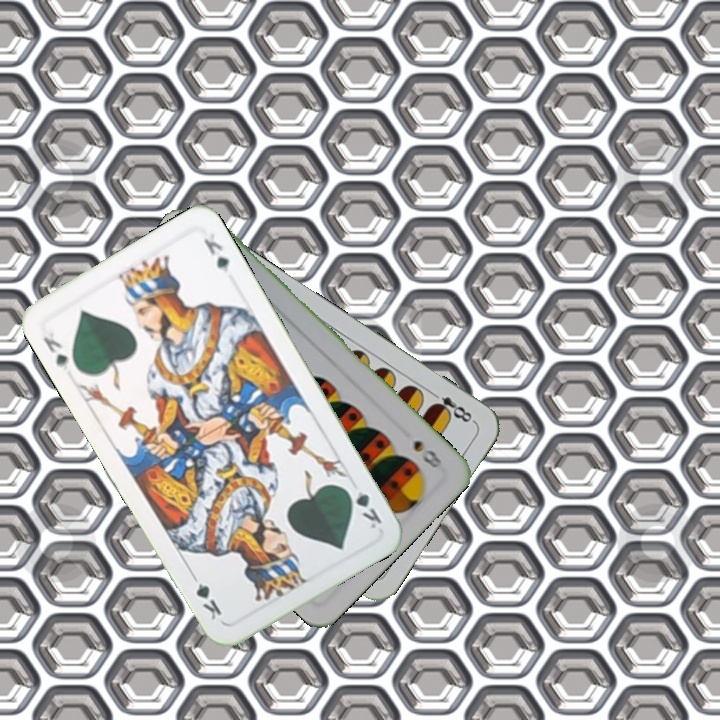E8: (425, 386, 477, 426)
GK: (340, 483, 384, 531), (38, 327, 71, 373)
S8: (409, 436, 448, 471)
